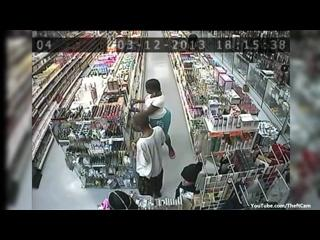Normal: (130, 78, 176, 160), (132, 112, 168, 198)
